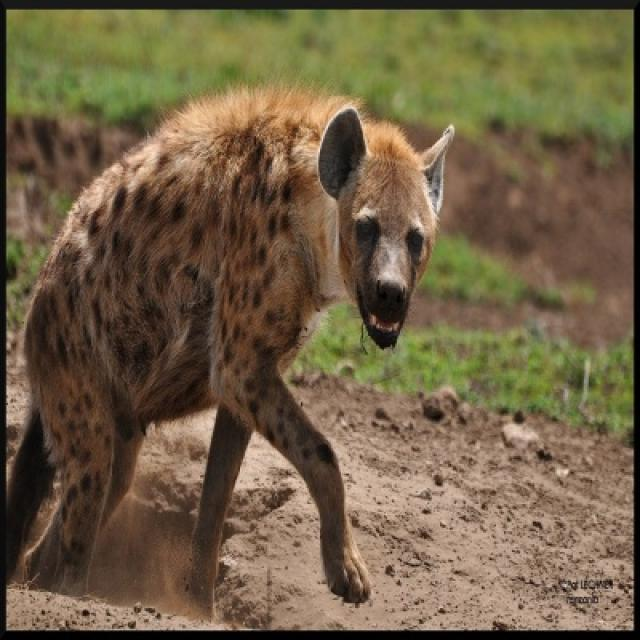hyena: (8, 86, 456, 613)
